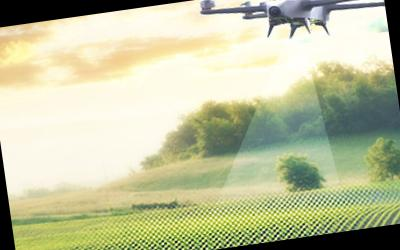drone: (196, 0, 386, 45)
